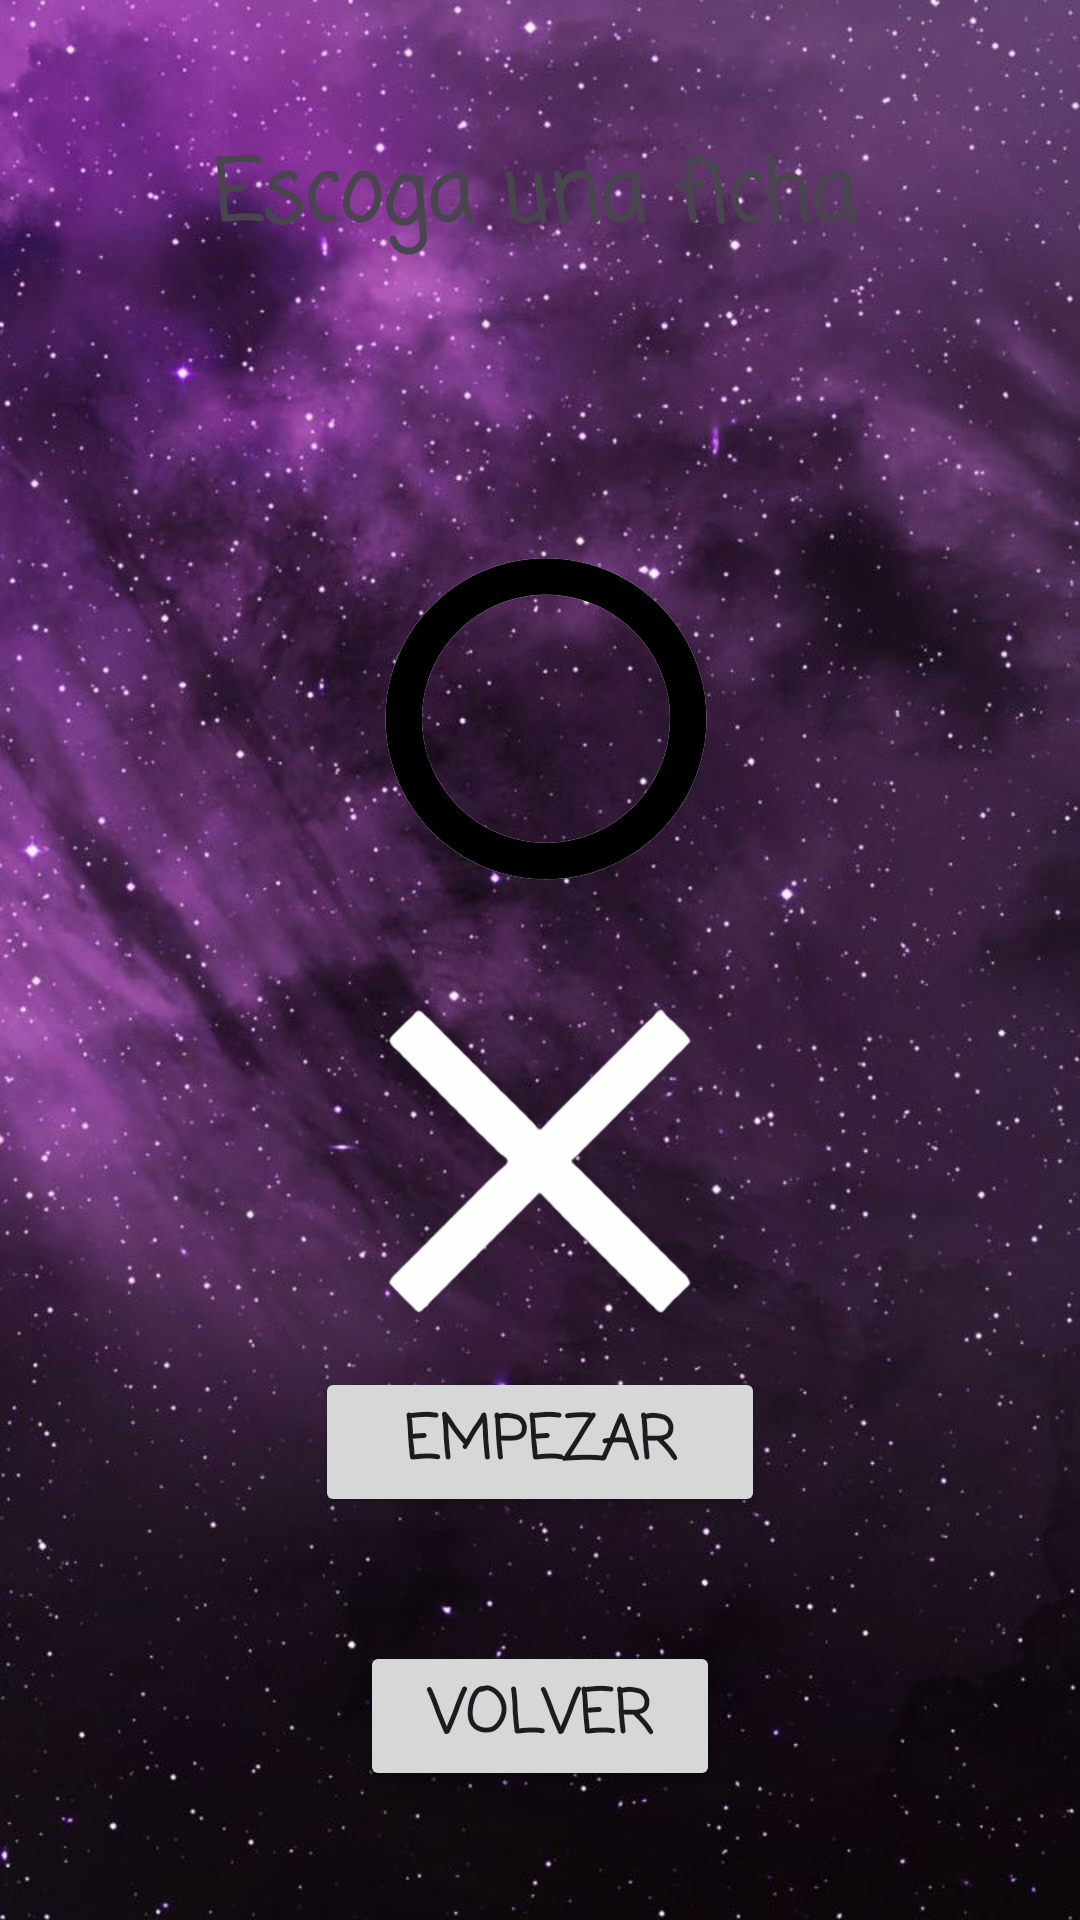

Icon click points for this 1080x1920 phone screenshot, format point (x, y):
circle: point (546, 718)
